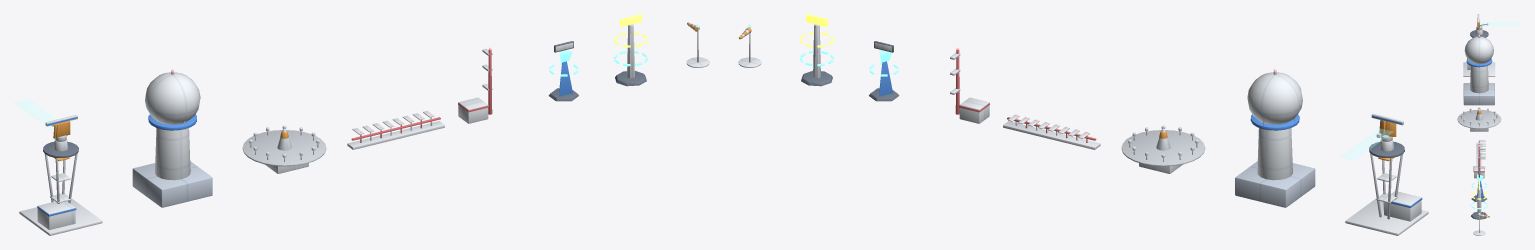
The model's file is navaids_waypoints.glb.
The picture shows the model from 3 angles, left to right: view 1: azimuth 30°, elevation 25°; view 2: azimuth 150°, elevation 25°; view 3: azimuth 270°, elevation 25°; orthographic projection. The views are drawn at different scales.
Visible parts, largest first — view 1: Radar_Enroute_Structure, Radar_Primary_Pedestal, VOR_DME_Mesh, ILS_Localizer_Mesh, ILS_Glideslope_Mesh, Waypoint_Pylon_B_Column, Waypoint_Pylon_A_Base, Radar_Dish_Assembly, Radar_Sweep_Cone; view 2: Radar_Enroute_Structure, Radar_Primary_Pedestal, VOR_DME_Mesh, ILS_Localizer_Mesh, ILS_Glideslope_Mesh, Waypoint_Pylon_B_Column, Waypoint_Pylon_A_Base, Radar_Sweep_Cone, Radar_Dish_Assembly; view 3: Radar_Enroute_Structure, VOR_DME_Mesh, Radar_Primary_Pedestal, Waypoint_Pylon_B_Column, ILS_Glideslope_Mesh, ILS_Localizer_Mesh, Radar_Sweep_Cone, Waypoint_Pylon_A_Base, Windsock_Pole, Radar_Dish_Assembly, Hold_Ring_Upper.
Part boxes in pixels (x1,y1,x2,y2): Radar_Enroute_Structure: (132,72,212,207); Radar_Primary_Pedestal: (19,139,102,235); VOR_DME_Mesh: (242,125,326,173); ILS_Localizer_Mesh: (347,110,444,149); ILS_Glideslope_Mesh: (458,47,492,123); Waypoint_Pylon_B_Column: (615,14,646,86); Waypoint_Pylon_A_Base: (548,41,578,101); Radar_Dish_Assembly: (45,115,77,141); Radar_Sweep_Cone: (15,99,56,130); Radar_Enroute_Structure: (1235,72,1315,207); Radar_Primary_Pedestal: (1345,139,1428,235); VOR_DME_Mesh: (1121,125,1205,173); ILS_Localizer_Mesh: (1003,114,1100,149); ILS_Glideslope_Mesh: (950,47,989,123); Waypoint_Pylon_B_Column: (801,14,832,86); Waypoint_Pylon_A_Base: (869,41,899,101); Radar_Sweep_Cone: (1341,128,1392,160); Radar_Dish_Assembly: (1371,113,1403,141); Radar_Enroute_Structure: (1463,36,1494,105); VOR_DME_Mesh: (1457,107,1501,131); Radar_Primary_Pedestal: (1463,29,1495,76); Waypoint_Pylon_B_Column: (1471,180,1487,219); ILS_Glideslope_Mesh: (1473,145,1485,178); ILS_Localizer_Mesh: (1476,140,1485,165); Radar_Sweep_Cone: (1480,22,1520,25); Waypoint_Pylon_A_Base: (1471,169,1486,201); Windsock_Pole: (1473,213,1485,235); Radar_Dish_Assembly: (1476,14,1488,30); Hold_Ring_Upper: (1470,191,1487,199).
Size of the model in its own units: 121 by 20.91 by 18.7.
12 materials, 2 textured.
